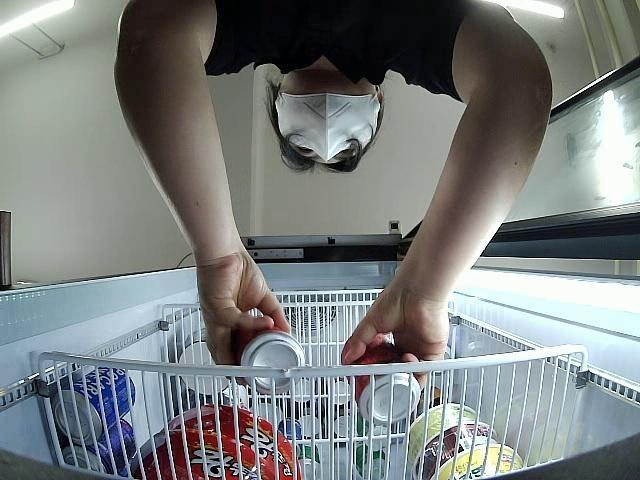11_cocaColaZero: (346, 334, 420, 424), (230, 320, 305, 394)
